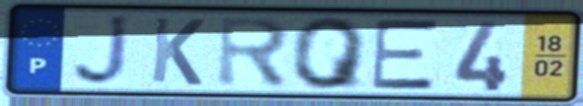4: (449, 17, 513, 94)
E: (369, 18, 440, 92)
J: (70, 13, 133, 89)
K: (147, 14, 208, 88)
Q: (290, 15, 372, 92)
R: (215, 14, 294, 91)
